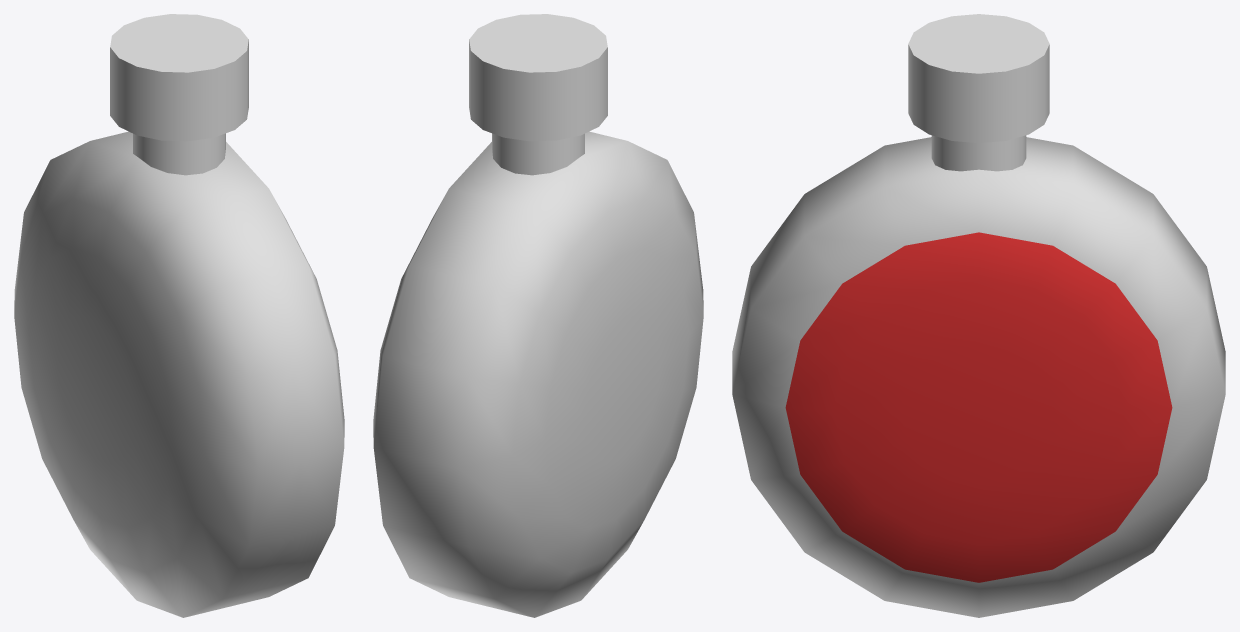
Rendered from LD47_watch_small.fbx.
3 views of the same model, side by side, from view 1: azimuth 30°, elevation 25°; view 2: azimuth 150°, elevation 25°; view 3: azimuth 270°, elevation 25° (orthographic).
Visible parts, largest first — view 1: watch, watch_part_2, watch_part_1; view 2: watch, watch_part_2, watch_part_1; view 3: watch, watch_part_2, watch_part_1.
Boxes of the visible parts, <box> form: watch: <box>14,131,344,617</box>; watch_part_2: <box>110,14,248,141</box>; watch_part_1: <box>133,133,225,175</box>; watch: <box>373,131,703,617</box>; watch_part_2: <box>469,14,607,141</box>; watch_part_1: <box>492,133,584,175</box>; watch: <box>732,137,1225,617</box>; watch_part_2: <box>908,14,1049,143</box>; watch_part_1: <box>931,135,1026,171</box>.
Size of the model in its own units: 0.7982 by 2.47 by 2.
